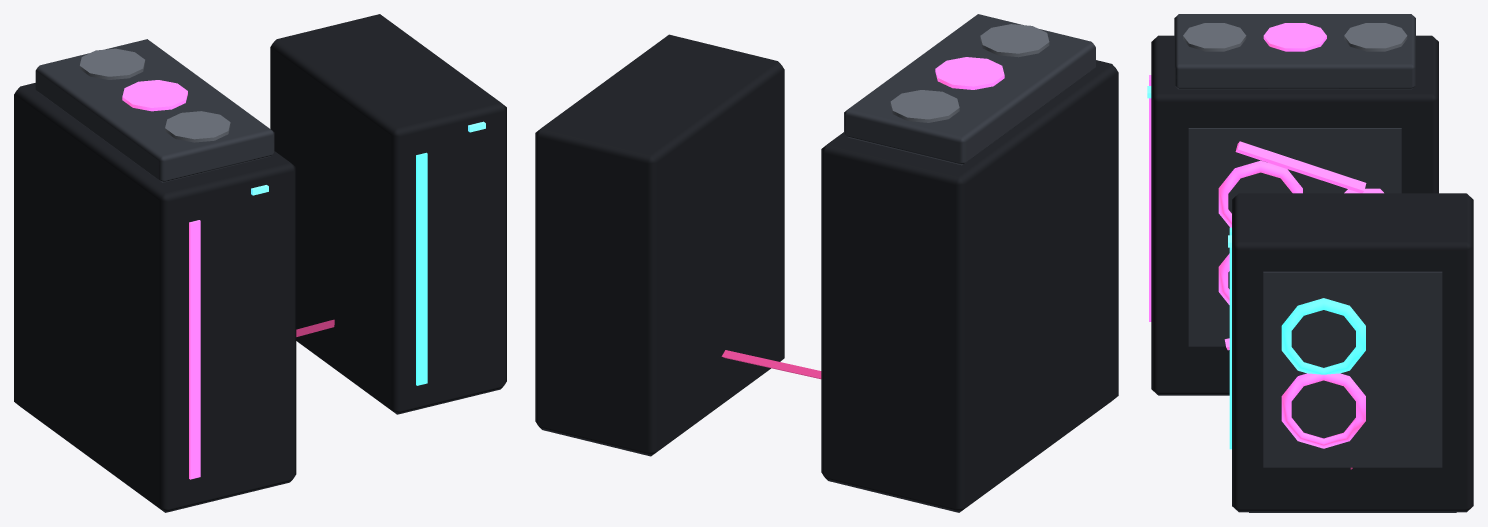
File: station_processing_ausstattung_1_2.glb
3 views of the same model, side by side, from view 1: azimuth 30°, elevation 25°; view 2: azimuth 150°, elevation 25°; view 3: azimuth 270°, elevation 25° (orthographic). The views are drawn at different scales.
Visible parts, largest first — view 1: station_processing_ausstattung_1_2; view 2: station_processing_ausstattung_1_2; view 3: station_processing_ausstattung_1_2.
Part boxes in pixels (box(x1,y1,x2,y2)): station_processing_ausstattung_1_2: box(14, 14, 506, 512); station_processing_ausstattung_1_2: box(535, 14, 1118, 512); station_processing_ausstattung_1_2: box(1147, 14, 1473, 512).
Bounding box in the file's own units: 0.7584 × 0.641 × 0.567.
